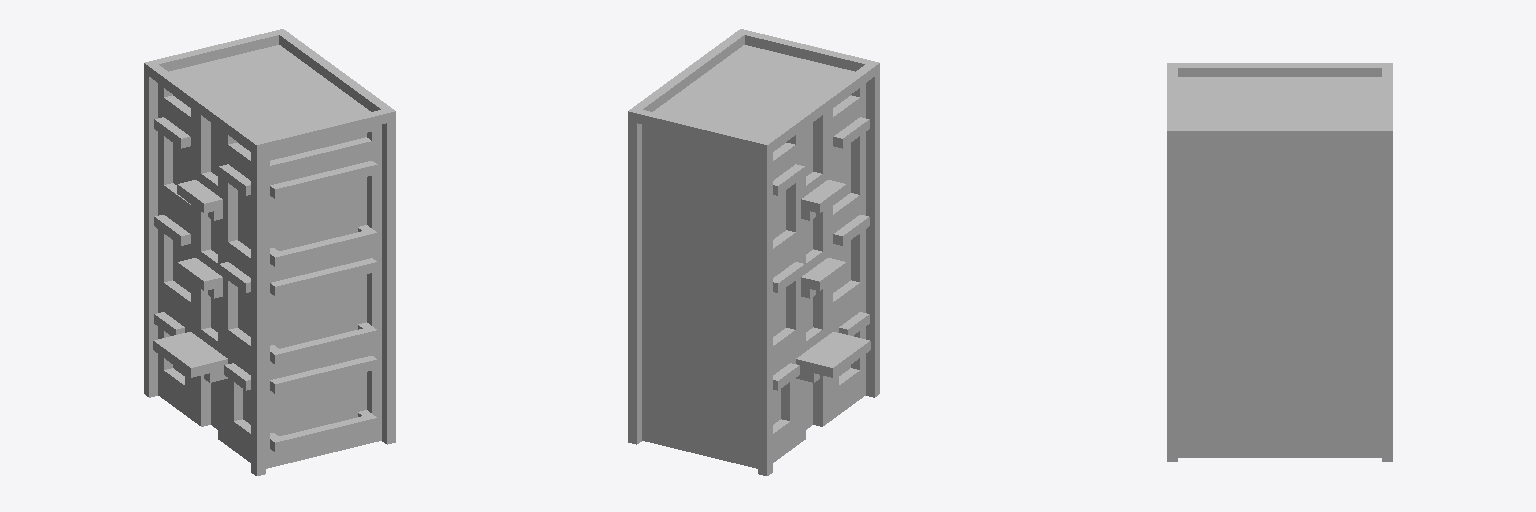
File: house3.obj
The picture shows the model from 3 angles: view 1: azimuth 30°, elevation 25°; view 2: azimuth 150°, elevation 25°; view 3: azimuth 270°, elevation 25°; orthographic projection.
Visible parts, largest first — view 1: object 1; view 2: object 1; view 3: object 1.
Boxes of the visible parts, box(x1,y1,x2,y2) form: object 1: box(144, 29, 395, 475); object 1: box(628, 29, 879, 475); object 1: box(1167, 63, 1392, 461).
Bounding box in the file's own units: 1.8 × 3.4 × 2.1.